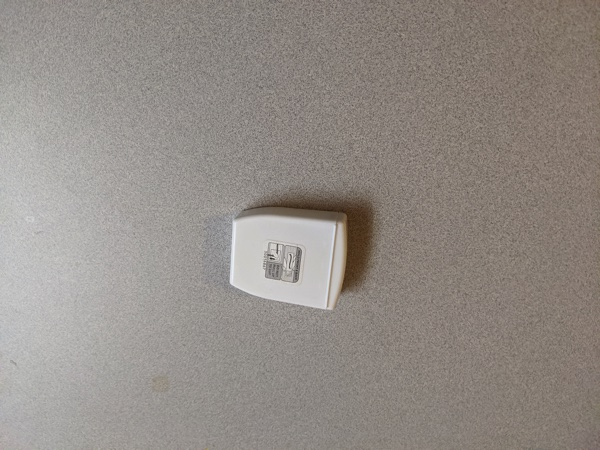plastic: (222, 194, 387, 322)
